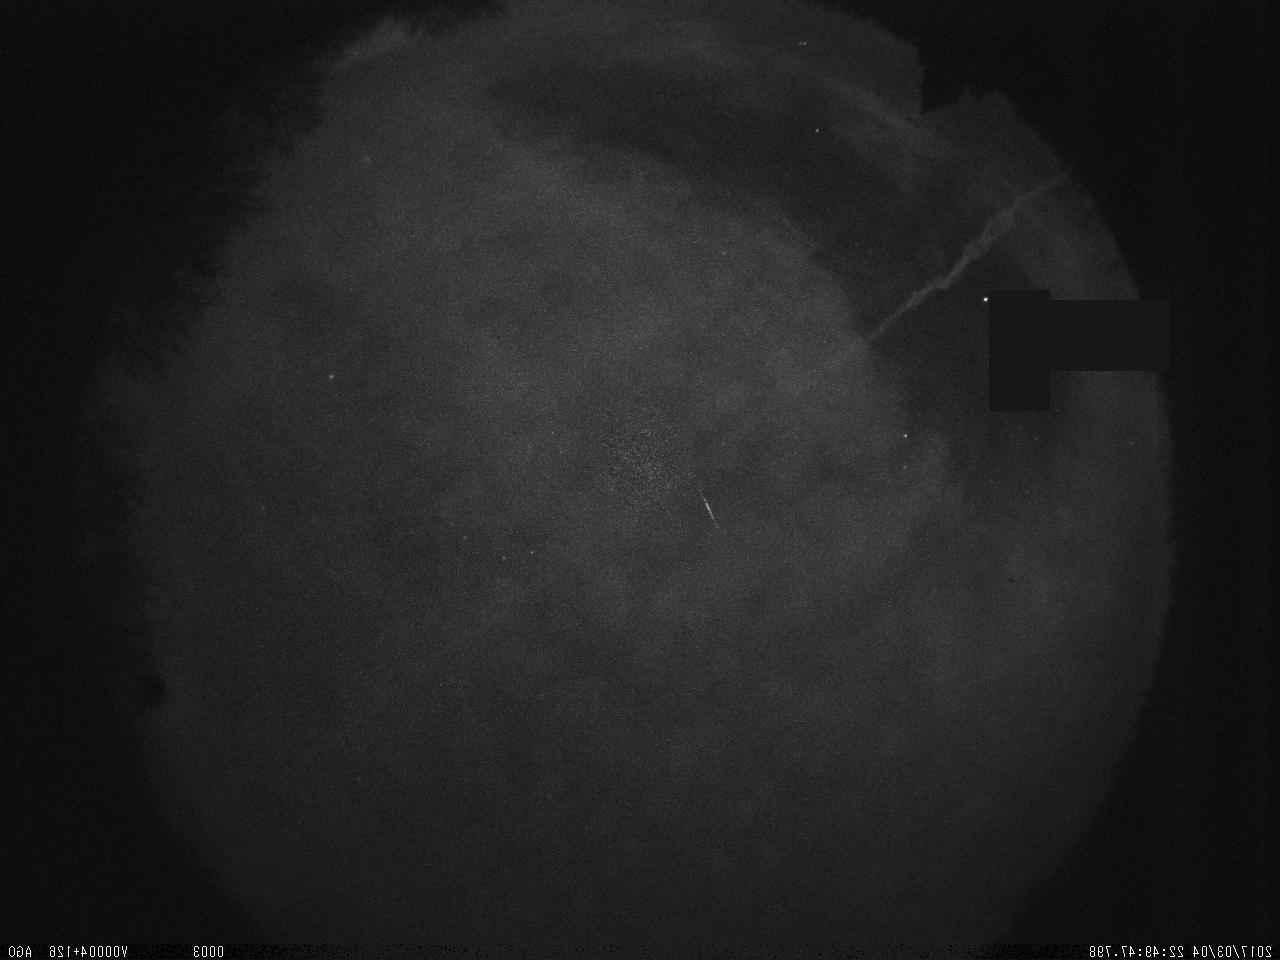meteor: (689, 479, 724, 536)
